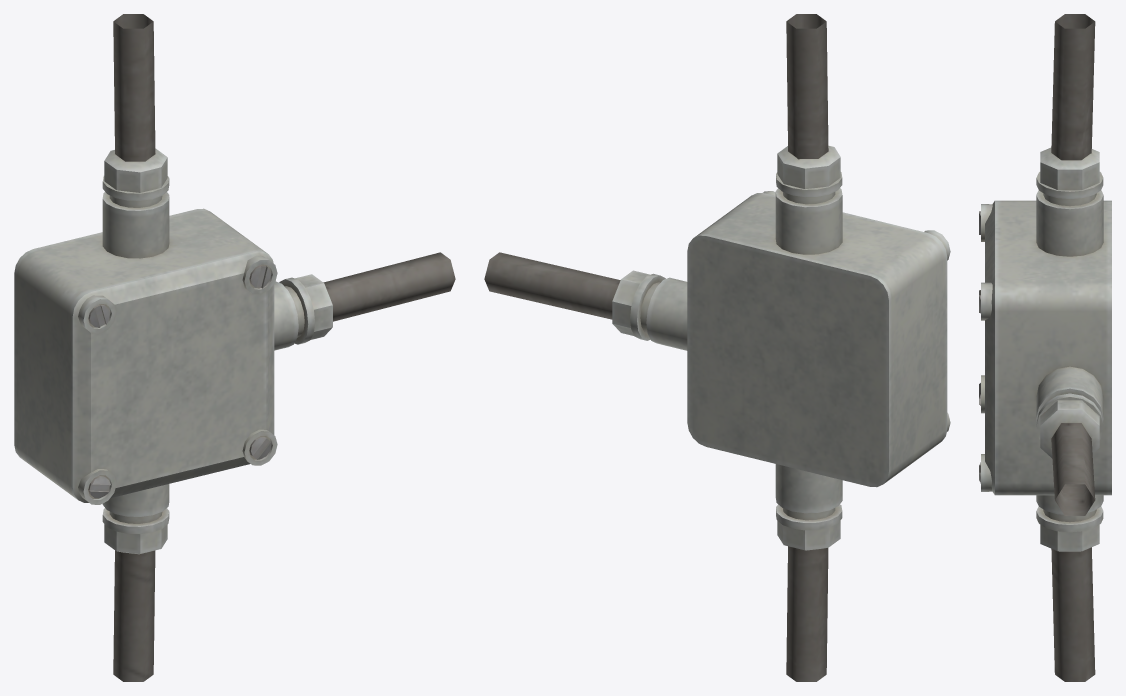
The model's file is cable_cable_box_3way.fbx.
3 renders of one model, left to right at view 1: azimuth 30°, elevation 25°; view 2: azimuth 150°, elevation 25°; view 3: azimuth 270°, elevation 25°, orthographic.
Visible parts, largest first — view 1: modular_electric_cables_boxes__cable_box_3way; view 2: modular_electric_cables_boxes__cable_box_3way; view 3: modular_electric_cables_boxes__cable_box_3way.
Part boxes in pixels (left/top/right/bottom): modular_electric_cables_boxes__cable_box_3way: left=14, top=14, right=455, bottom=681; modular_electric_cables_boxes__cable_box_3way: left=484, top=14, right=950, bottom=681; modular_electric_cables_boxes__cable_box_3way: left=979, top=14, right=1111, bottom=681.
Size of the model in its own units: 0.1323 by 0.2 by 0.0369.
